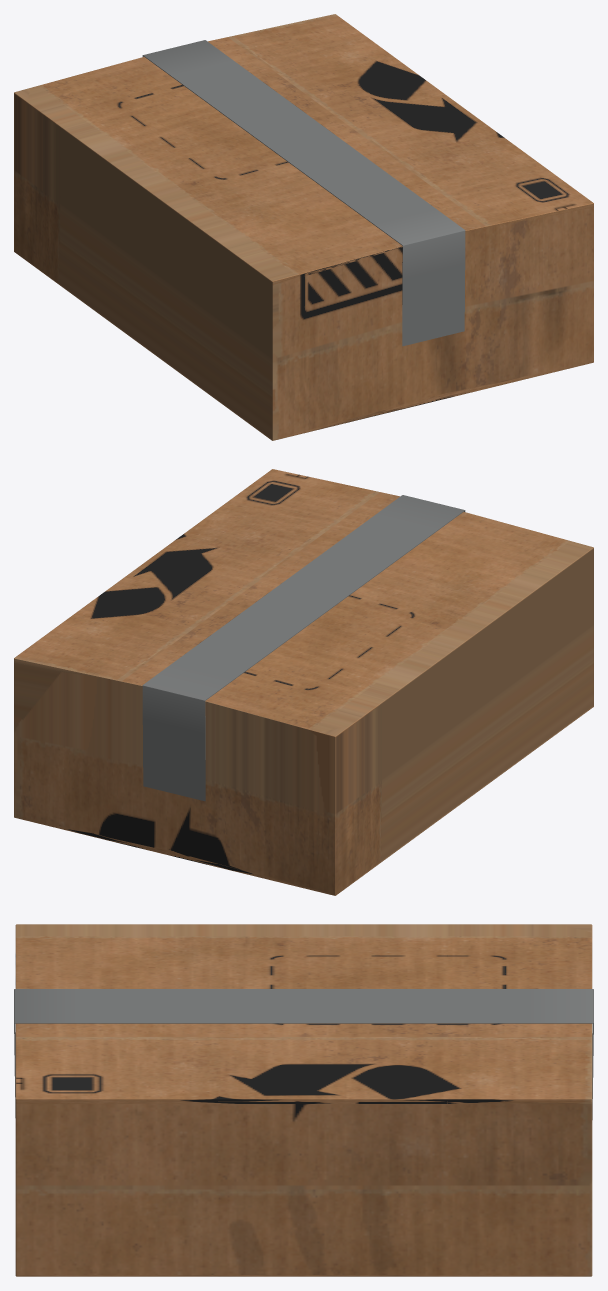
Rendered from package.fbx.
3 renders of one model, top to bottom at view 1: azimuth 30°, elevation 25°; view 2: azimuth 150°, elevation 25°; view 3: azimuth 270°, elevation 25°, orthographic. The views are drawn at different scales.
Parts seen in each view (by area): view 1: package, tape; view 2: package, tape; view 3: package, tape.
Part boxes in pixels (left/top/right/bottom): package: left=14, top=14, right=593, bottom=440; tape: left=142, top=40, right=465, bottom=346; package: left=14, top=469, right=593, bottom=895; tape: left=142, top=495, right=465, bottom=801; package: left=15, top=924, right=592, bottom=1276; tape: left=14, top=989, right=593, bottom=1119.
Size of the model in its own units: 35.59 by 17.4 by 49.88.
